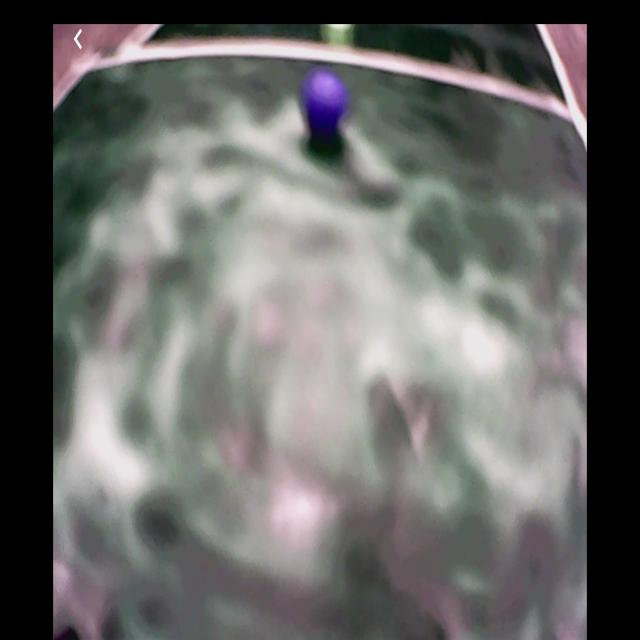ball: (301, 66, 347, 138)
